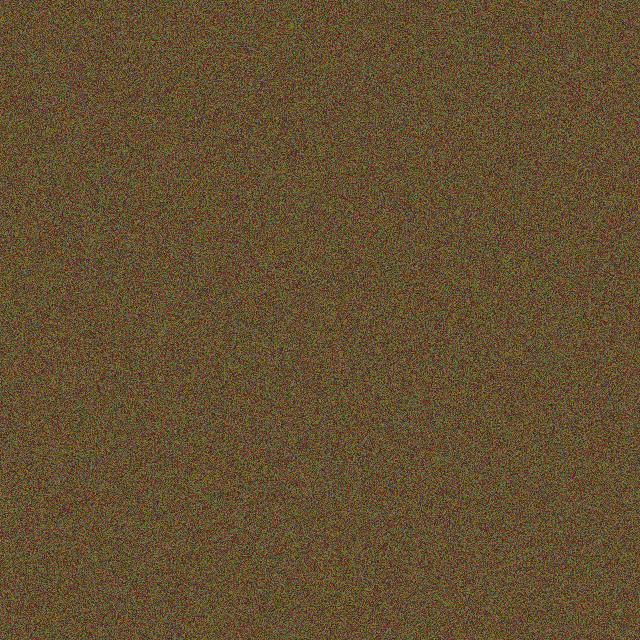ghost_net: (149, 147, 268, 264)
